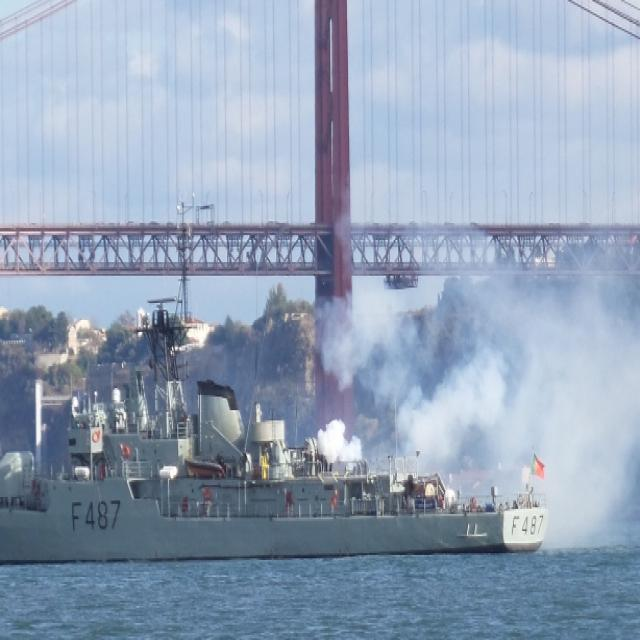Fragata: (1, 251, 559, 578)
